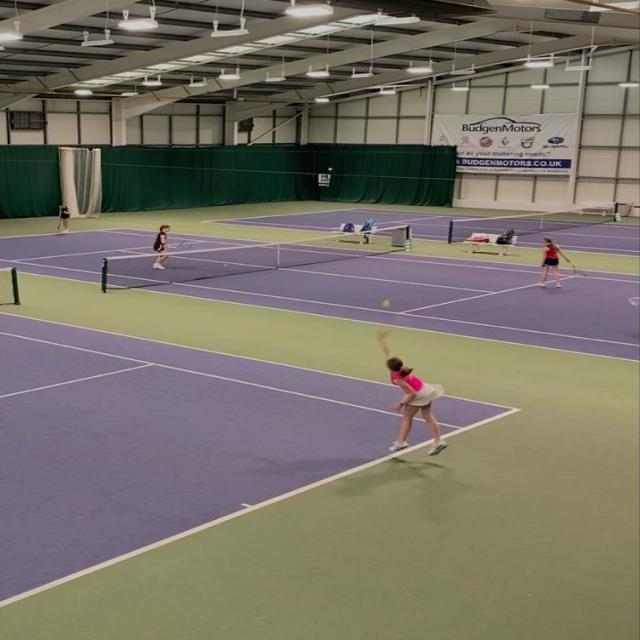tennis: (379, 296, 392, 308)
